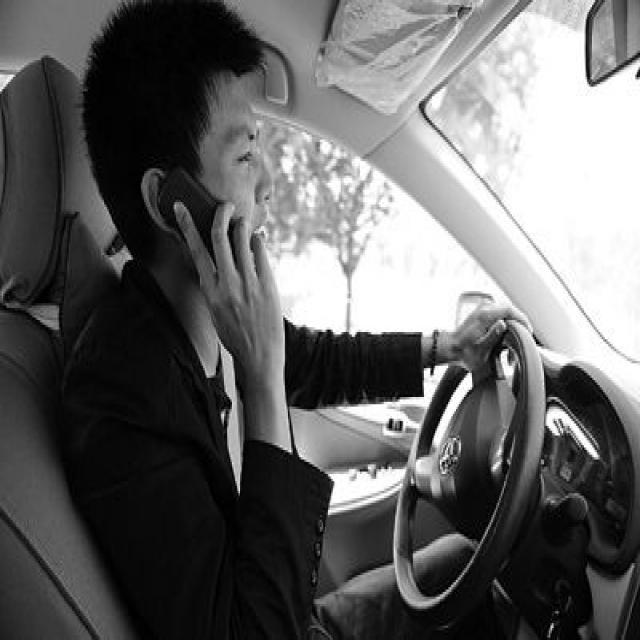phone: (132, 140, 298, 376)
